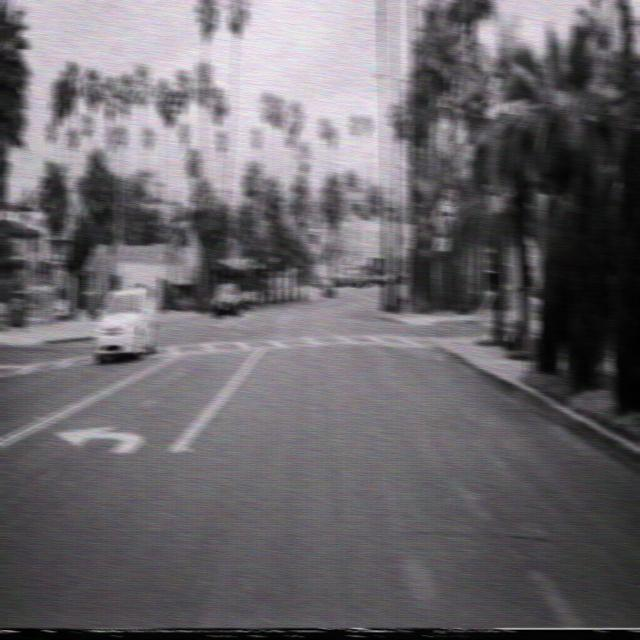pedestrianCrossing: (430, 198, 451, 236)
speedLimit25: (400, 222, 414, 248)
